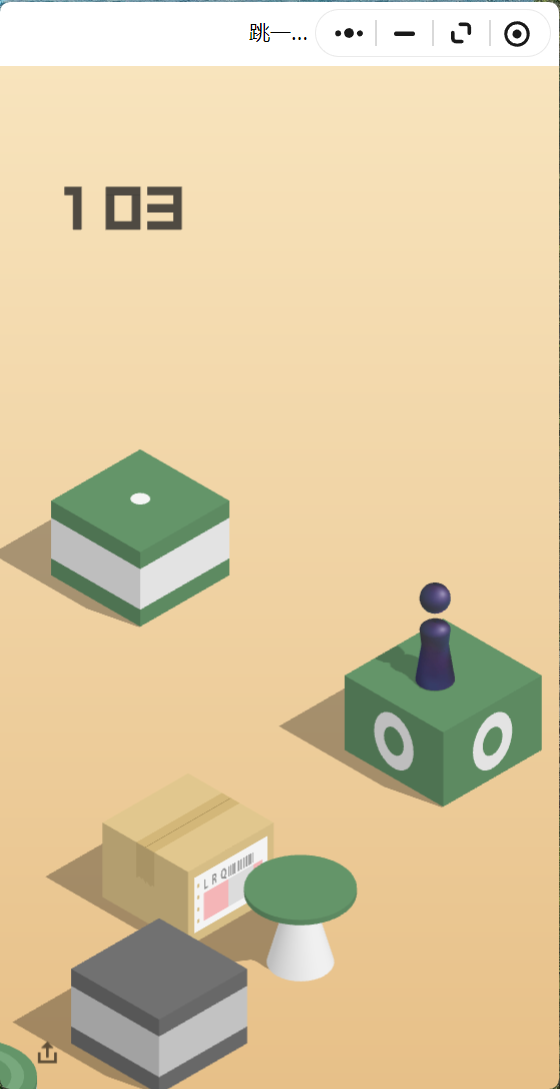piece: (418, 583, 449, 686)
target: (51, 450, 230, 551)
